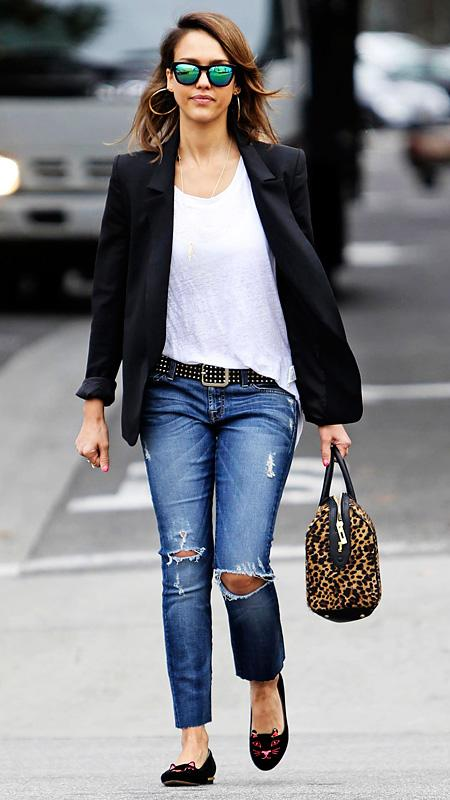jeans: (125, 361, 287, 675)
sunglasses: (166, 64, 232, 87)
